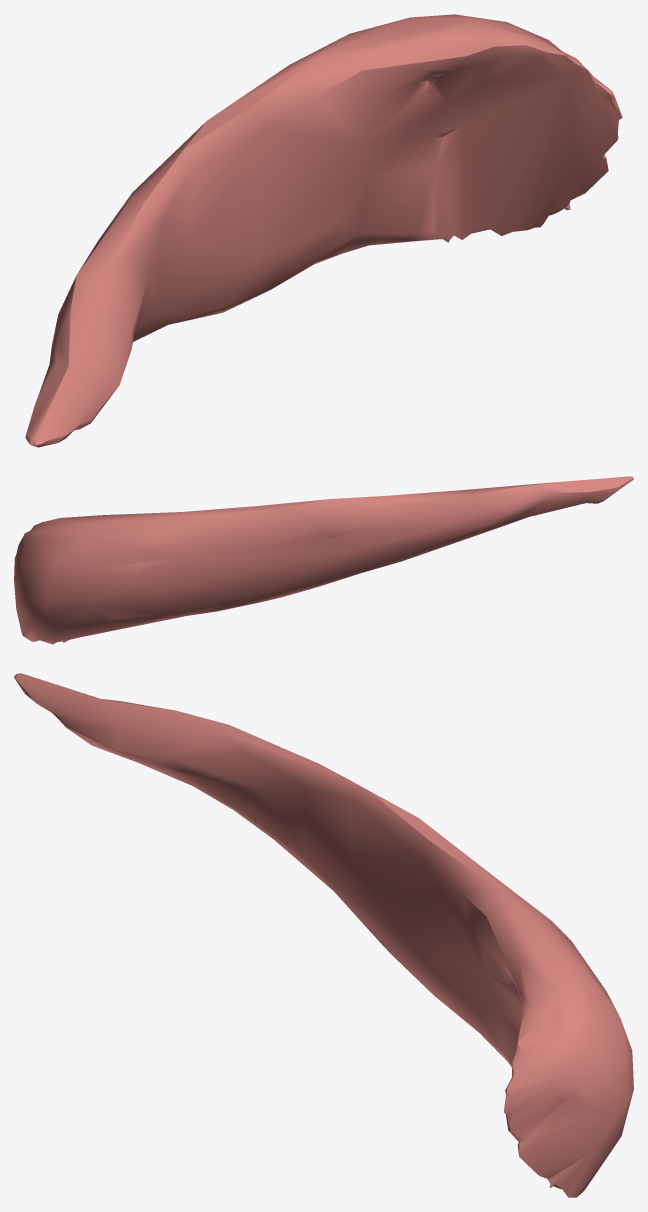
File: fma22336_fj1416.glb
3 views of the same model, one above another, from view 1: azimuth 30°, elevation 25°; view 2: azimuth 150°, elevation 25°; view 3: azimuth 270°, elevation 25° (orthographic). The views are drawn at different scales.
Visible parts, largest first — view 1: FMA22336_FJ1416; view 2: FMA22336_FJ1416; view 3: FMA22336_FJ1416.
Boxes of the visible parts, x1,y1,x2,y2 form: FMA22336_FJ1416: [25, 14, 622, 447]; FMA22336_FJ1416: [14, 476, 633, 644]; FMA22336_FJ1416: [14, 673, 633, 1197].
Bounding box in the file's own units: 0.0703 × 0.022 × 0.0539.
